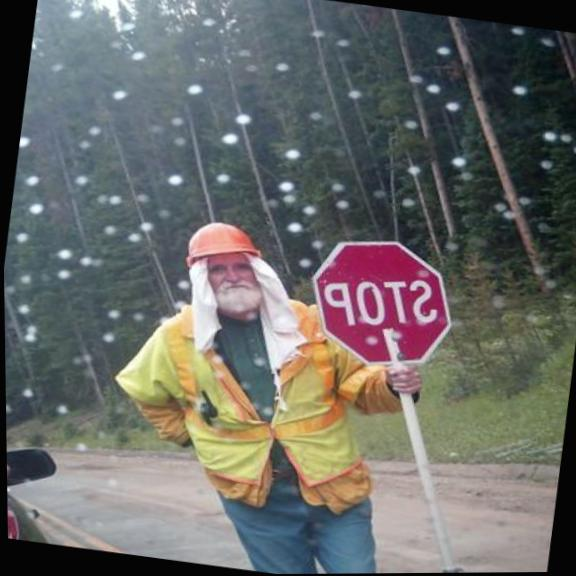safety_vest: (102, 269, 420, 522)
